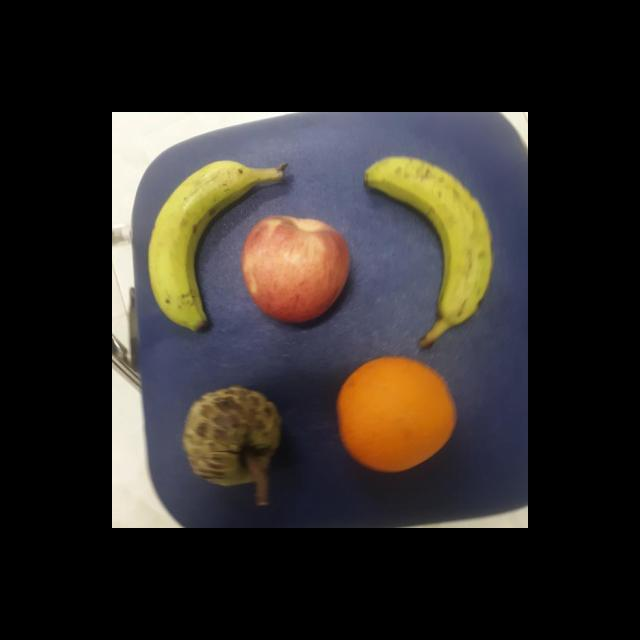Sakya fruit: (178, 386, 284, 486)
apple: (237, 212, 358, 328)
banana: (361, 148, 496, 320), (144, 156, 259, 334)
orange: (328, 356, 458, 474)
